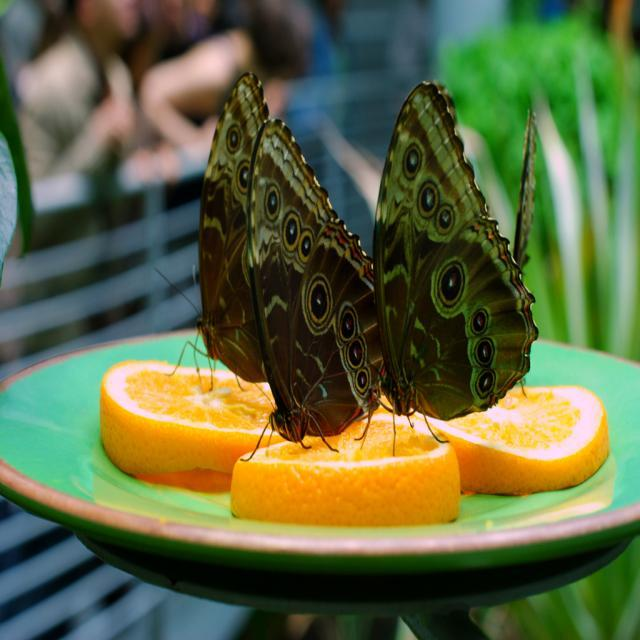Orange: (231, 420, 461, 533), (378, 389, 610, 493), (100, 361, 282, 479)
